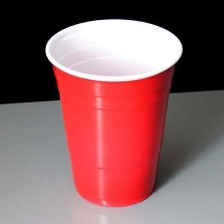glass: (38, 16, 186, 213)
